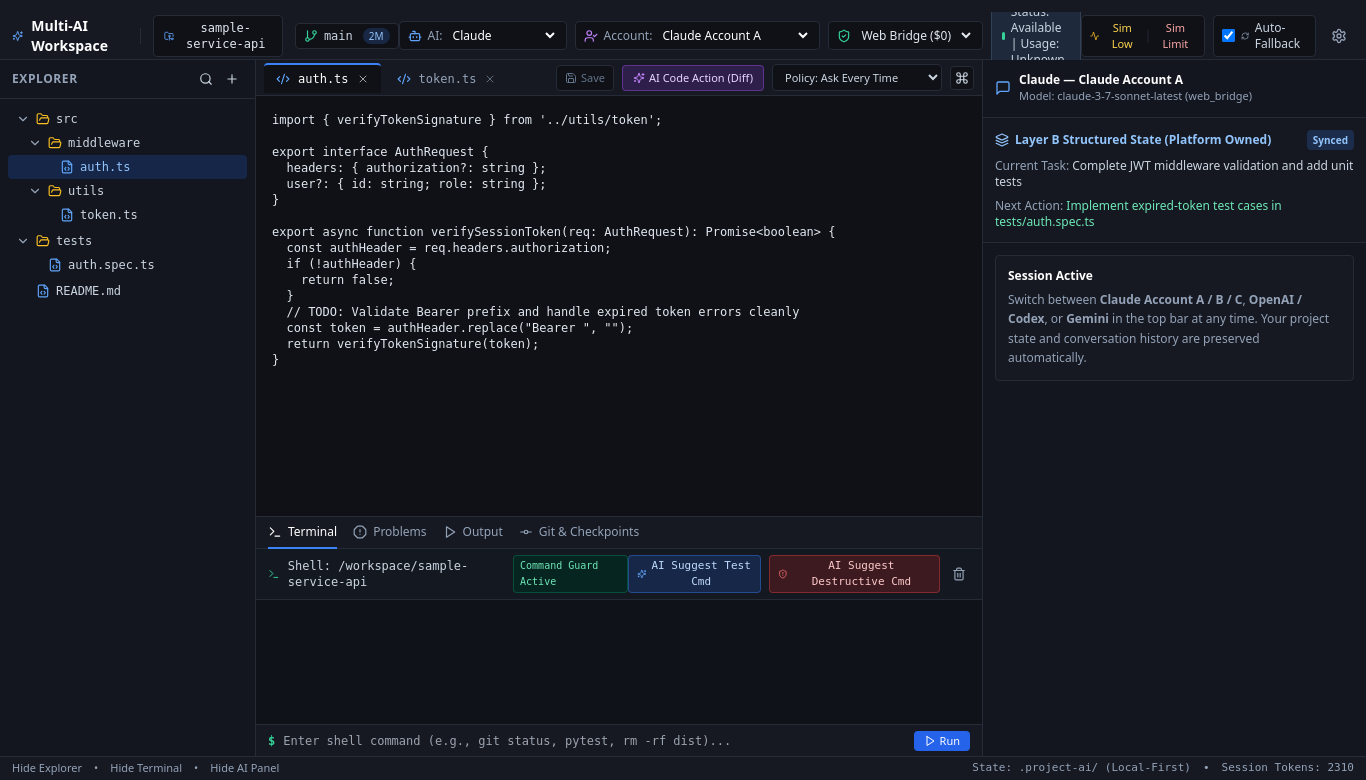
Scenario: Phase 5: Integrated Terminal & Destructive Command Guard › executes safe read-only commands immediately and records them in Layer B state
The width and height of the screenshot is (1366, 780).
Step 1. Replace the text in the field with test id "terminal-command-input" with "git status" → [594, 740], box [283, 732, 906, 748]
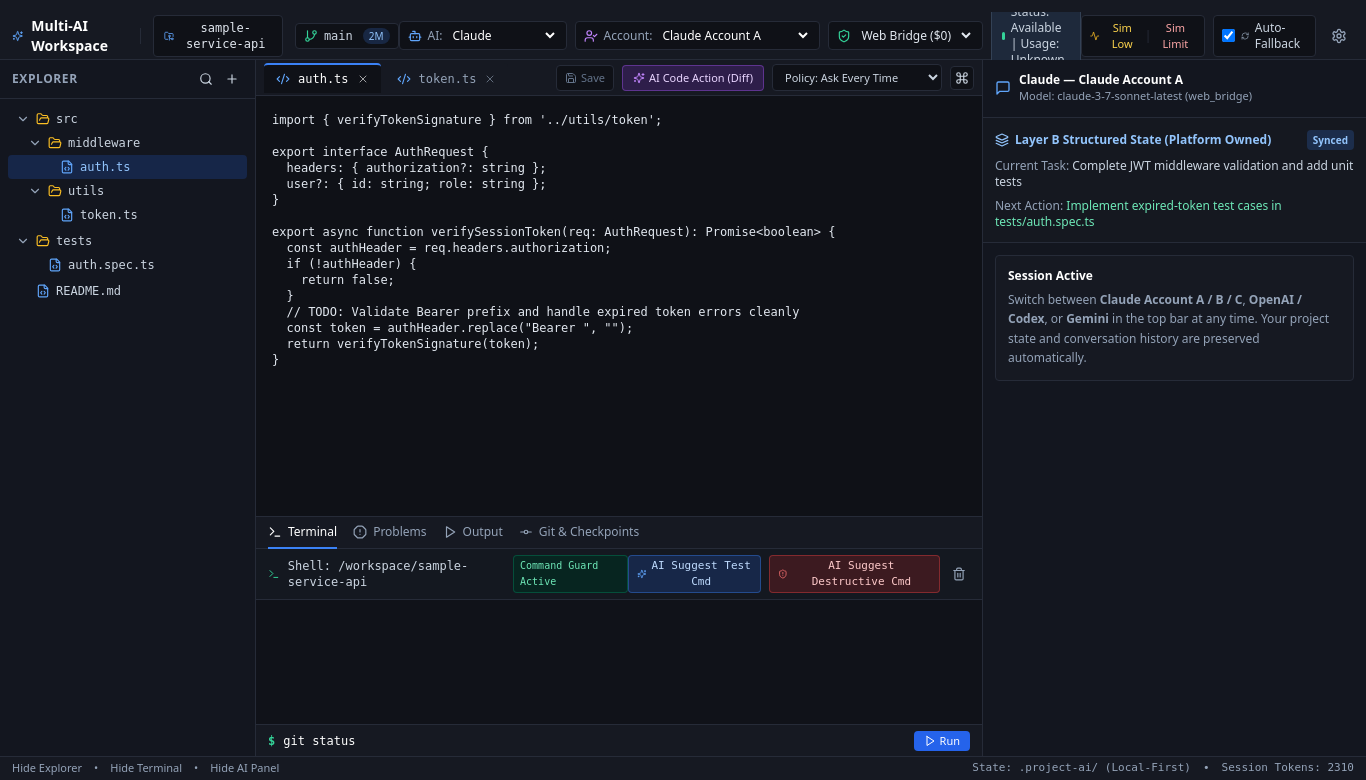
Step 2. Click the button with test id "terminal-run-btn" → [942, 740], box [914, 730, 970, 750]
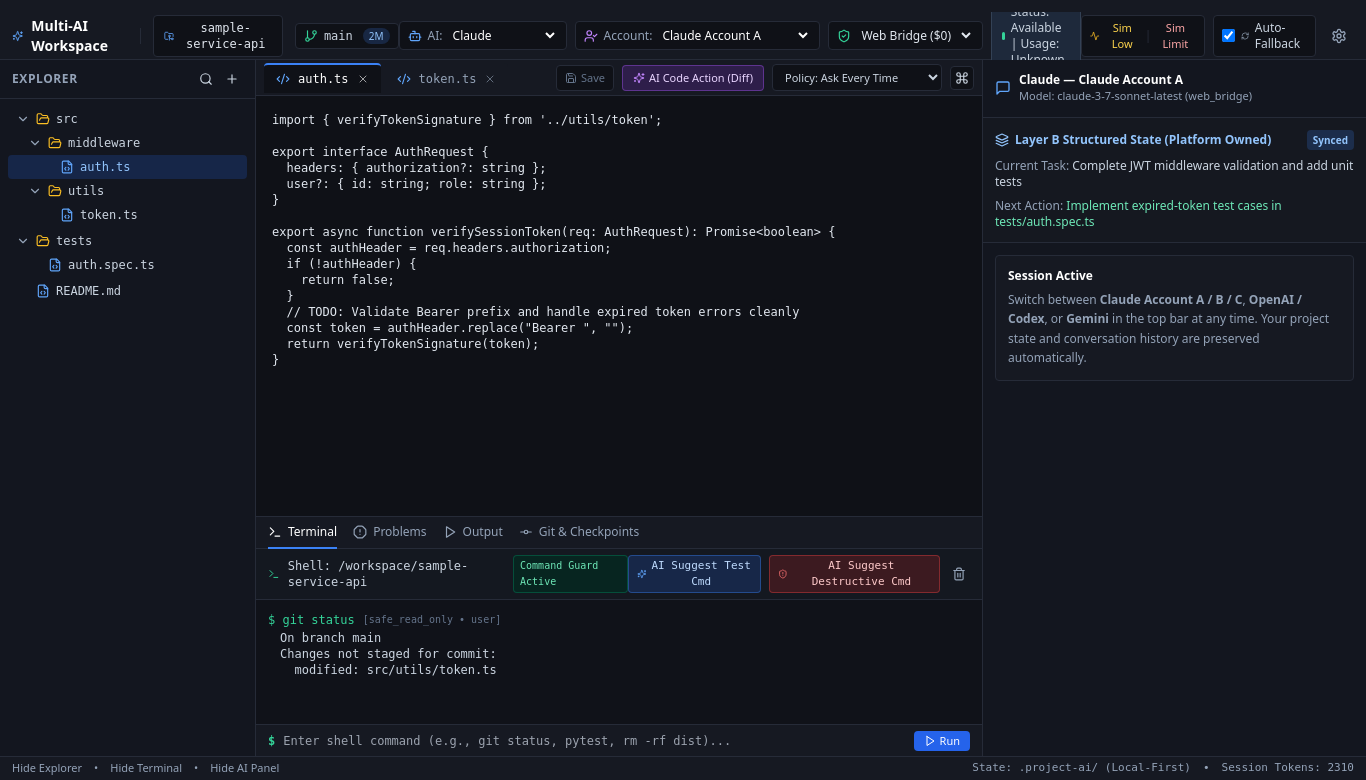
expect the element with test id "terminal-history-list" shows "$ git status": met, box [268, 613, 501, 677]
expect the element with test id "terminal-history-list" shows "On branch main": met, box [280, 631, 497, 677]
